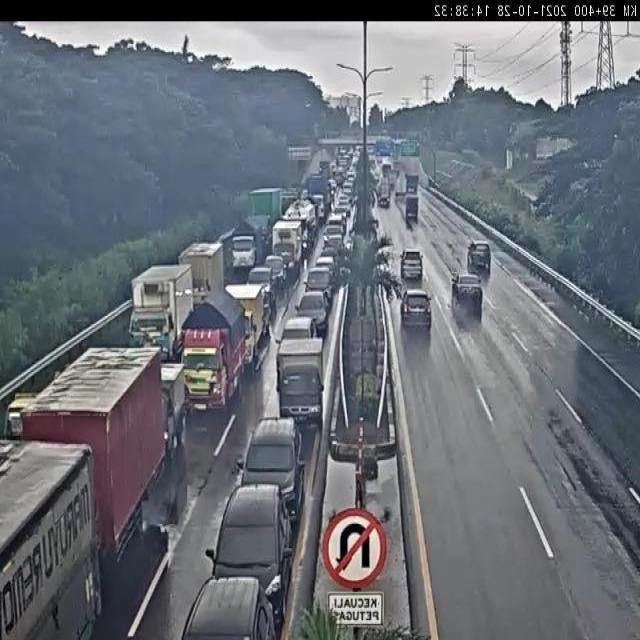Car: (204, 482, 294, 627), (238, 417, 304, 522), (176, 574, 275, 639), (246, 265, 278, 314), (294, 290, 328, 336), (274, 318, 320, 350), (400, 287, 431, 332), (302, 266, 334, 306), (451, 272, 484, 307), (264, 254, 287, 296), (467, 240, 492, 272), (400, 248, 423, 280), (314, 254, 336, 279), (322, 224, 344, 244), (328, 213, 346, 234)
Truck: (17, 349, 168, 551), (0, 439, 100, 638), (179, 292, 250, 416), (130, 262, 197, 363), (218, 280, 268, 375), (276, 335, 326, 426), (178, 241, 229, 314), (160, 362, 187, 456), (246, 186, 283, 248), (272, 218, 306, 279), (282, 198, 317, 255), (230, 214, 264, 272), (303, 172, 332, 225), (5, 393, 37, 440), (377, 177, 391, 207), (404, 195, 419, 223), (394, 173, 410, 198), (404, 173, 418, 194), (388, 168, 398, 189)
